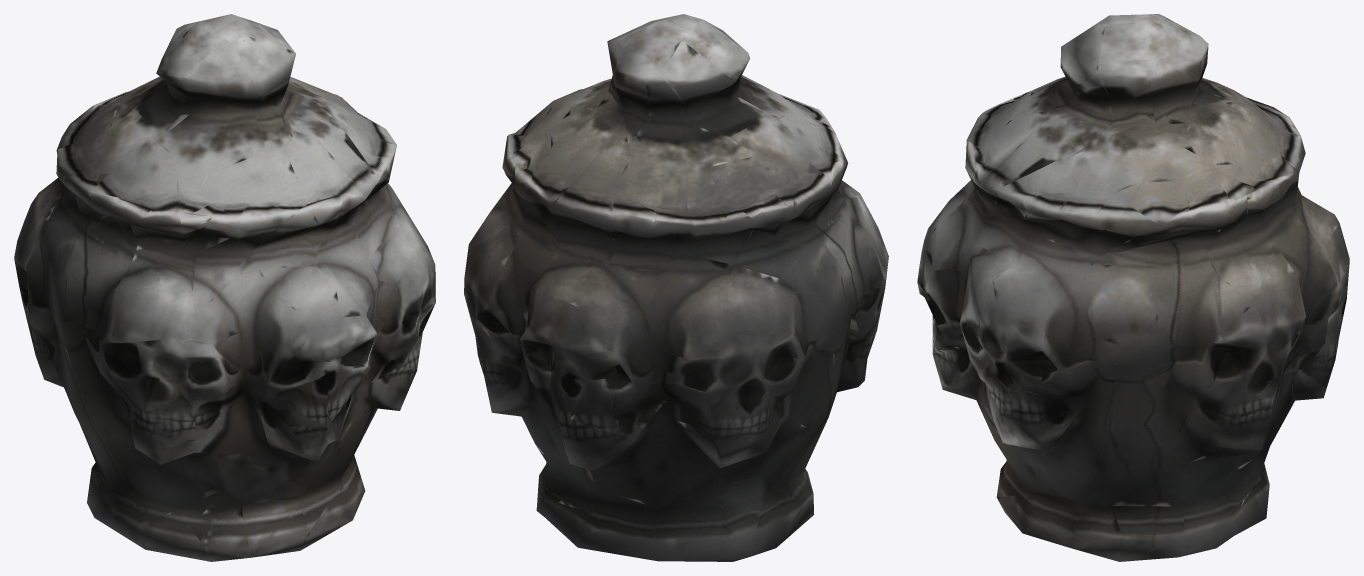
The model's file is burial_urn.glb.
3 views of the same model, side by side, from view 1: azimuth 30°, elevation 25°; view 2: azimuth 150°, elevation 25°; view 3: azimuth 270°, elevation 25° (orthographic).
Bounding box in the file's own units: 1.41 × 1.99 × 1.57.
1 material, 1 textured.
